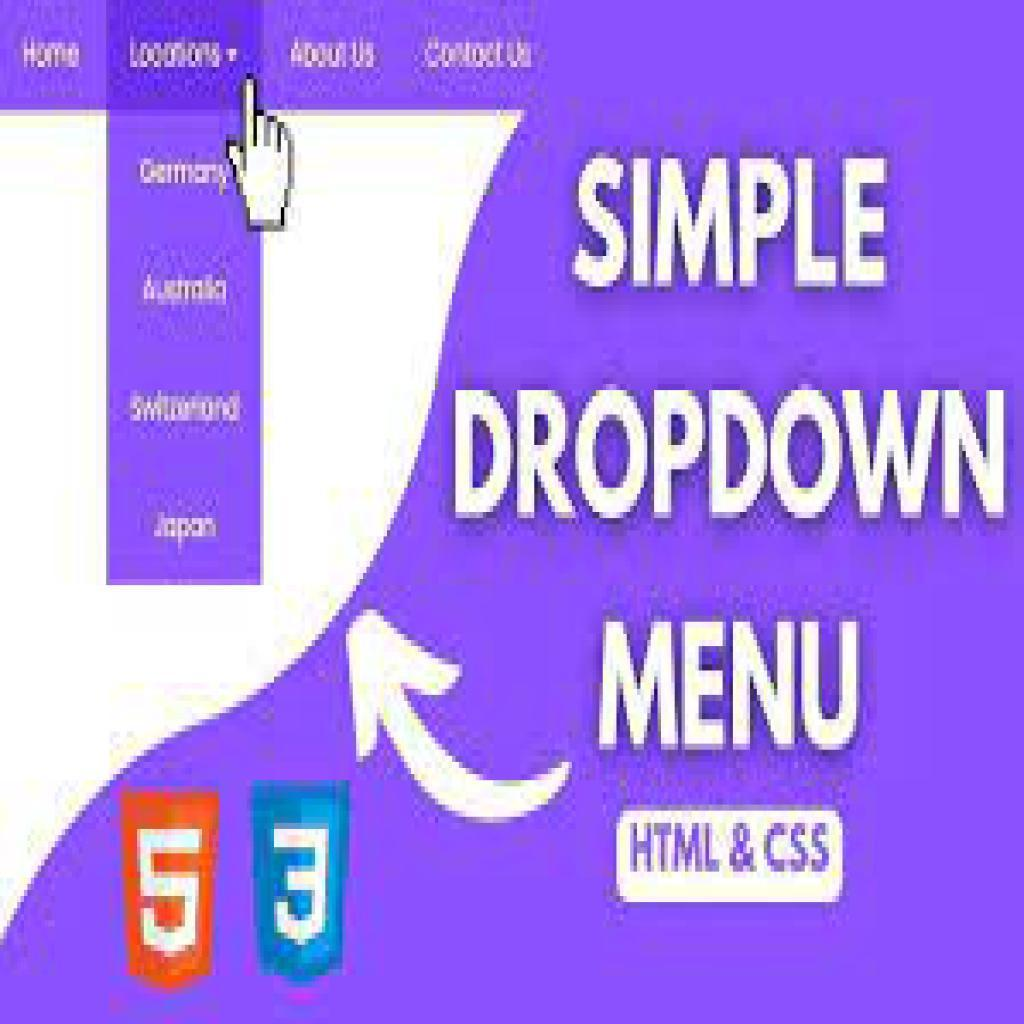dropdown: (106, 1, 261, 110)
